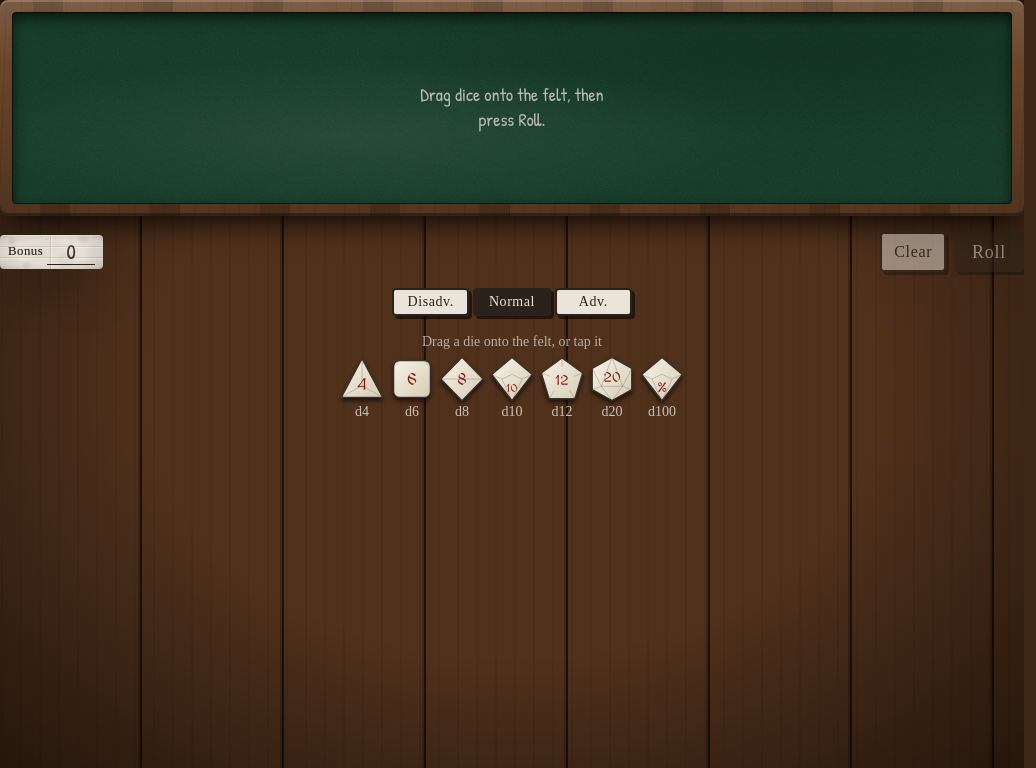
Test case: DiceTray › adds dice by tapping, removes one by clicking it, and rolls
Expected: the button "Roll" is disabled, [954, 232, 1024, 272]
Click the button named "Add a d4 to the board": x=362, y=389 [339, 356, 385, 422]
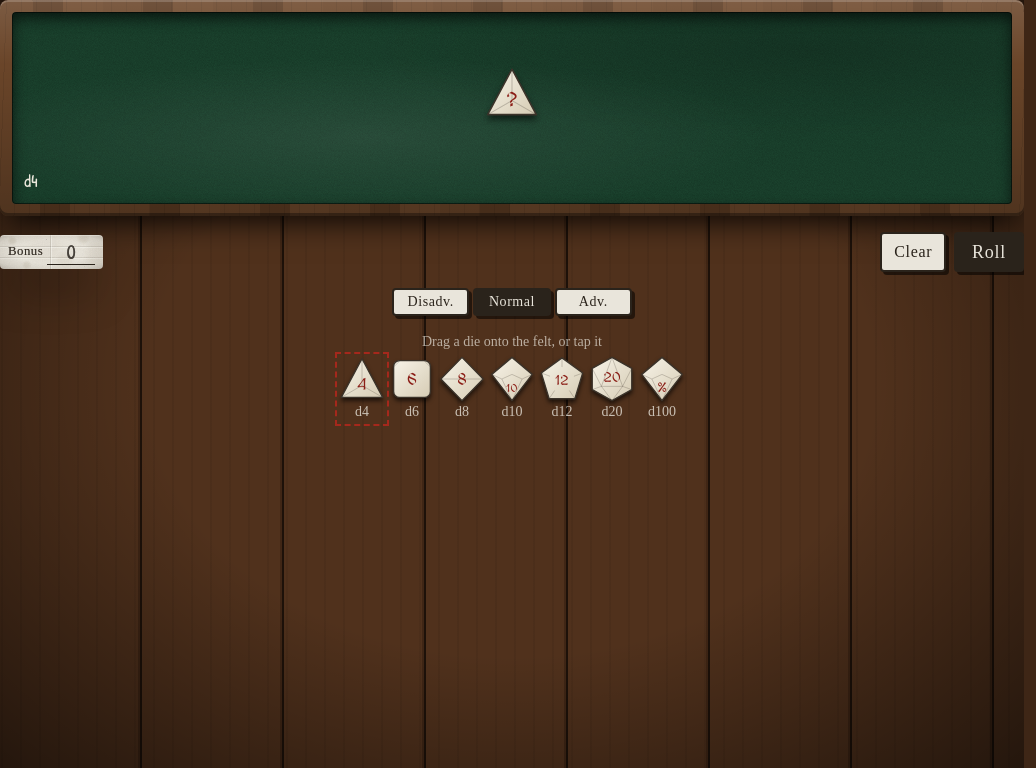
Click the button named "Add a d4 to the board": x=362, y=389 [339, 356, 385, 422]
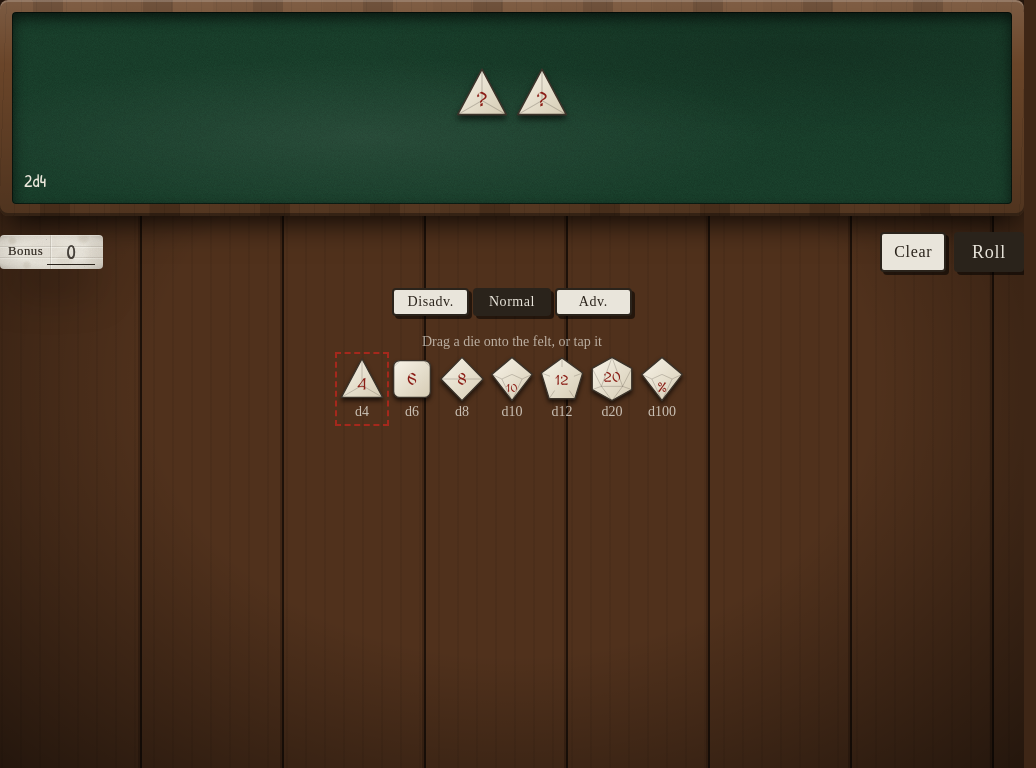
Click the button named "Add a d8 to the board": x=462, y=389 [439, 356, 485, 422]
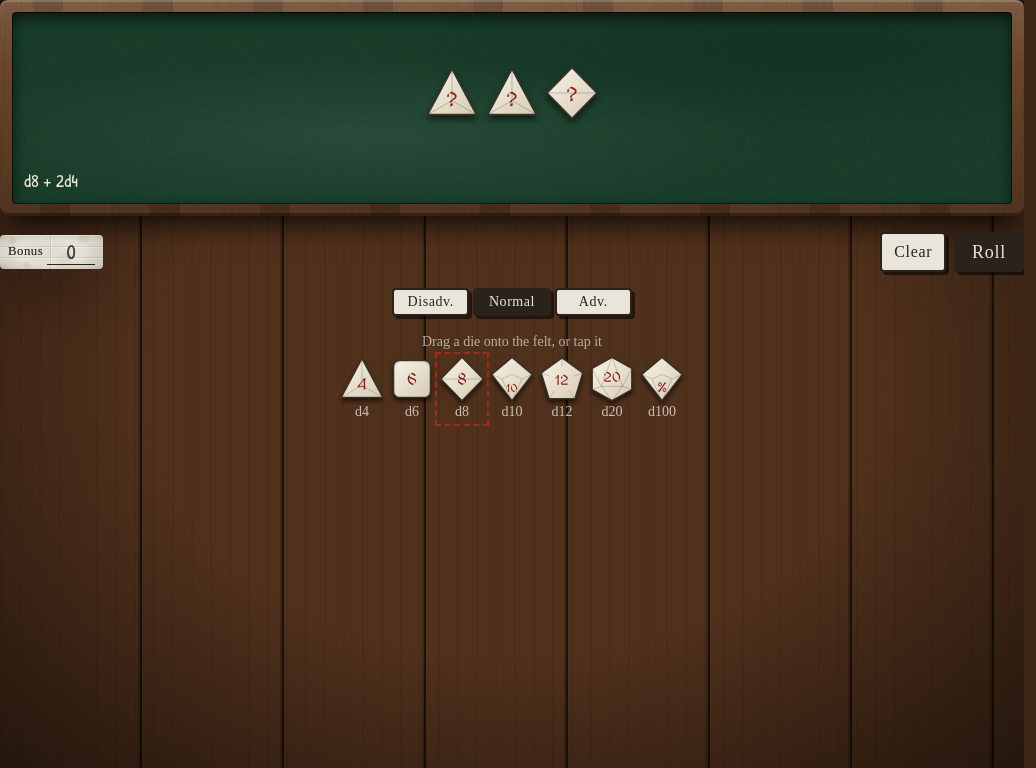
Expected: the number of buttons named "Remove d" is 3
Click the button named "Remove d8": x=572, y=93 [545, 66, 599, 120]
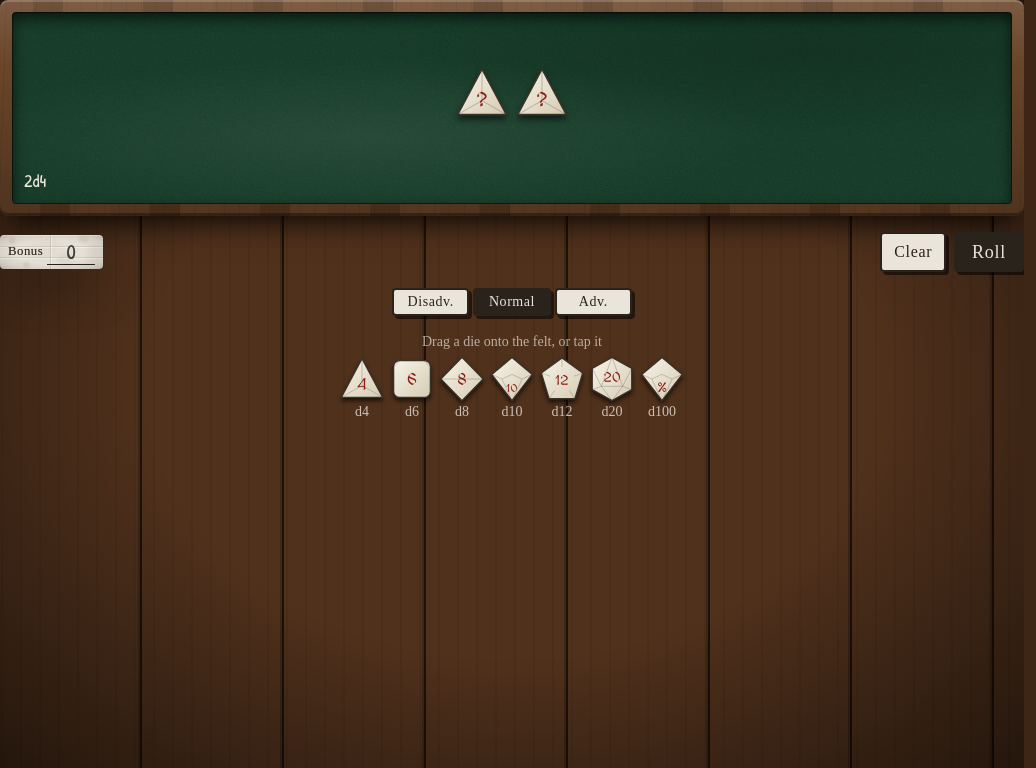
Click the button "Roll": x=989, y=252 [954, 232, 1024, 272]
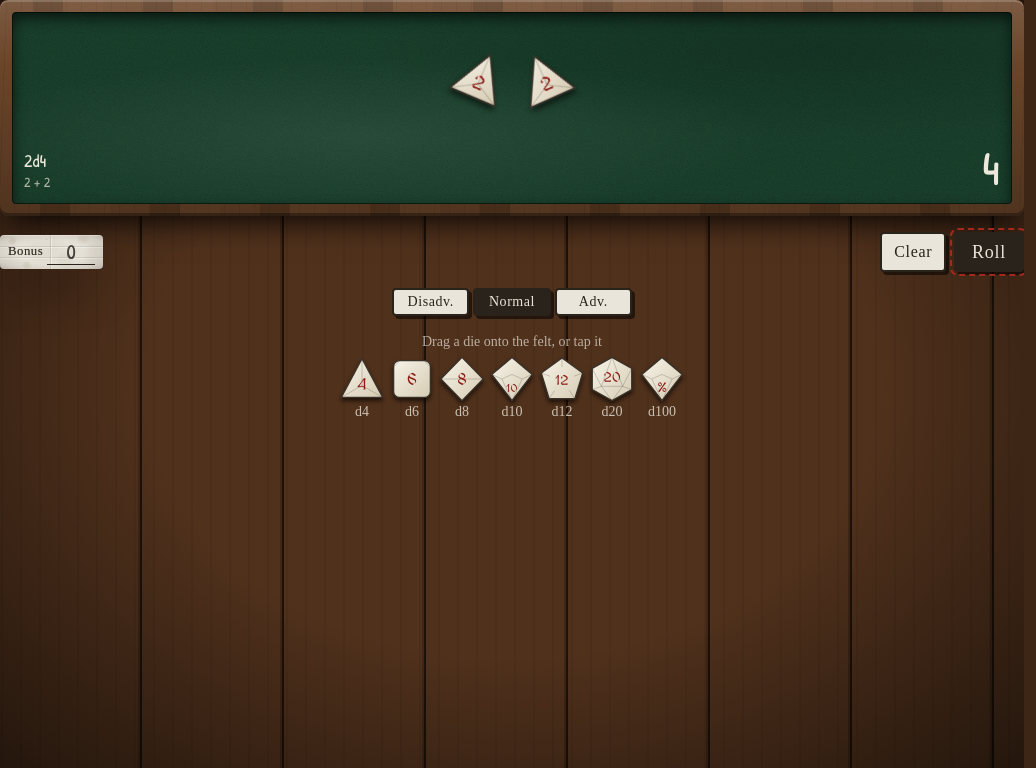
Expected: the text named "Total 4" is shown, [982, 144, 1000, 192]
